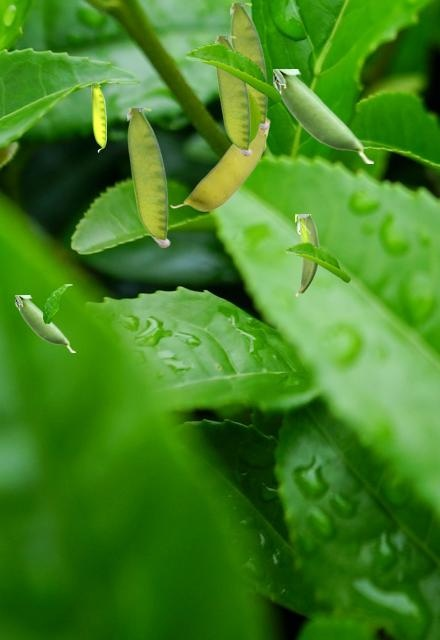pea: (170, 117, 269, 210), (273, 69, 372, 162), (127, 108, 169, 246), (230, 3, 268, 129), (215, 36, 251, 155), (15, 295, 74, 351), (295, 214, 319, 295), (91, 83, 105, 151)
